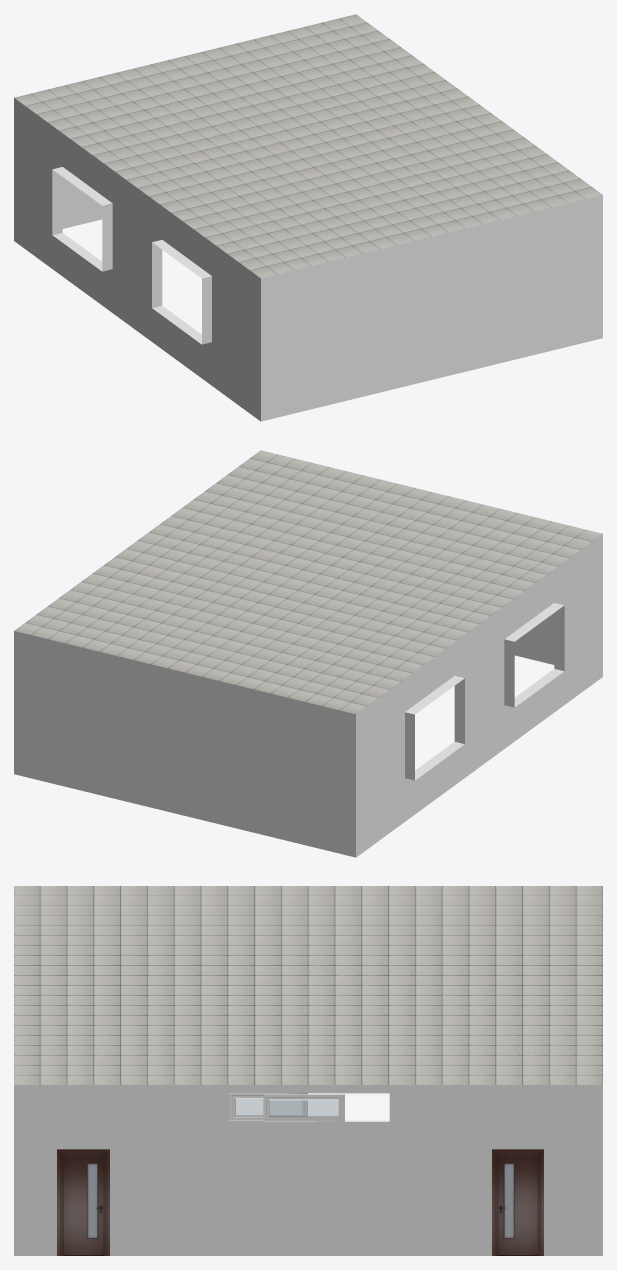
File: Classroom-136.FBX
3 views of the same model, one above another, from view 1: azimuth 30°, elevation 25°; view 2: azimuth 150°, elevation 25°; view 3: azimuth 270°, elevation 25° (orthographic). The views are drawn at different scales.
Visible parts, largest first — view 1: Classroom-136; view 2: Classroom-136; view 3: Classroom-136.
Part boxes in pixels (x1=…): Classroom-136: x1=14, y1=14, x2=602, y2=421; Classroom-136: x1=14, y1=450, x2=602, y2=857; Classroom-136: x1=14, y1=886, x2=602, y2=1255.
Bounding box in the file's own units: 8.33 × 3.2 × 10.
Materials: 5 (2 with a texture image).
